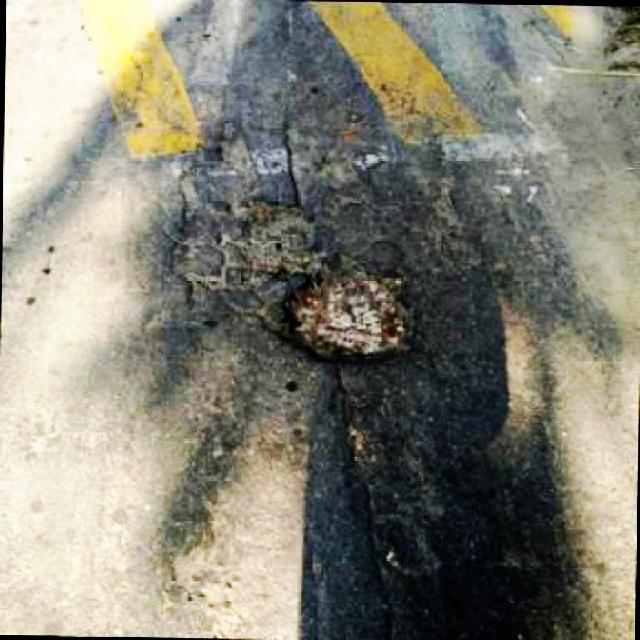pothole: (218, 186, 417, 369)
